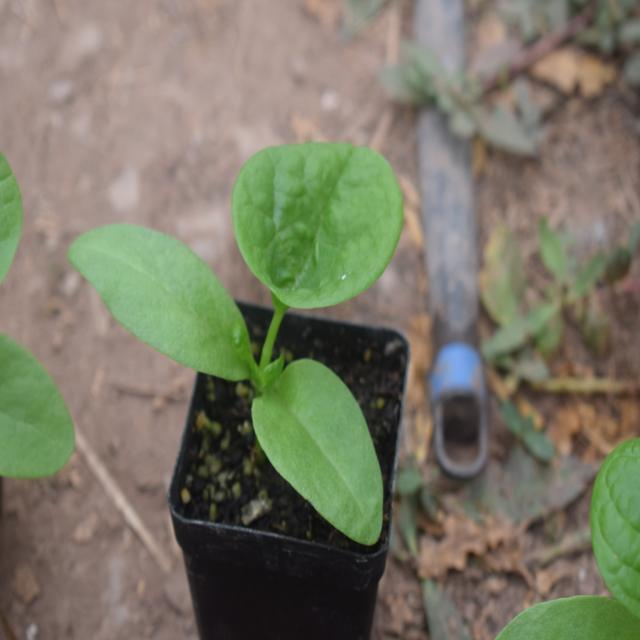Ceylon spinach: (76, 152, 410, 517)
